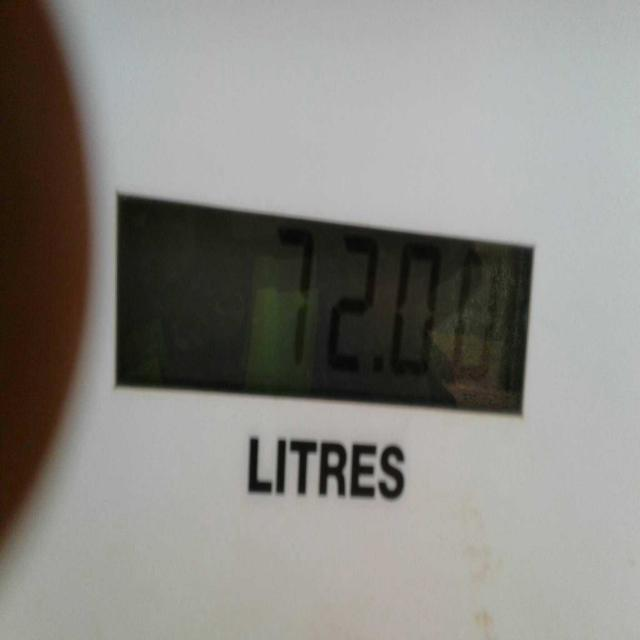.: (271, 211, 317, 374), (366, 341, 385, 383)
0: (385, 238, 445, 392), (447, 251, 508, 383)
2: (320, 219, 374, 385)
